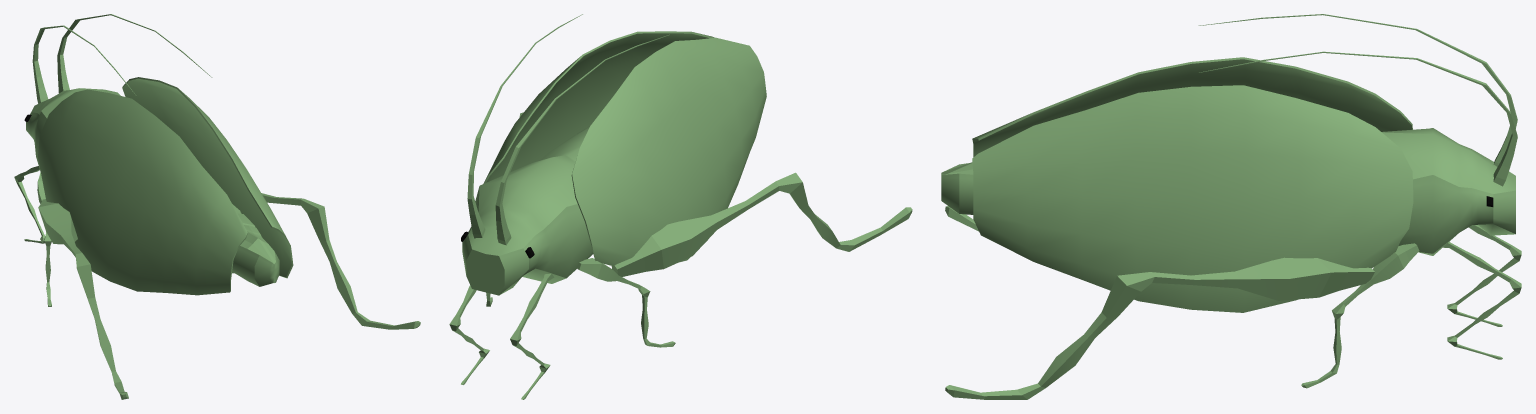
Rendered from katydidLOD.fbx.
The picture shows the model from 3 angles, left to right: view 1: azimuth 30°, elevation 25°; view 2: azimuth 150°, elevation 25°; view 3: azimuth 270°, elevation 25°; orthographic projection. The views are drawn at different scales.
Parts seen in each view (by area): view 1: katydid_LOD0; view 2: katydid_LOD0; view 3: katydid_LOD0.
Boxes of the visible parts, x1,y1,x2,y2 form: katydid_LOD0: (14,14,420,399); katydid_LOD0: (449,14,912,399); katydid_LOD0: (941,14,1521,399).
Bounding box in the file's own units: 4.9 × 3.87 × 6.54.
